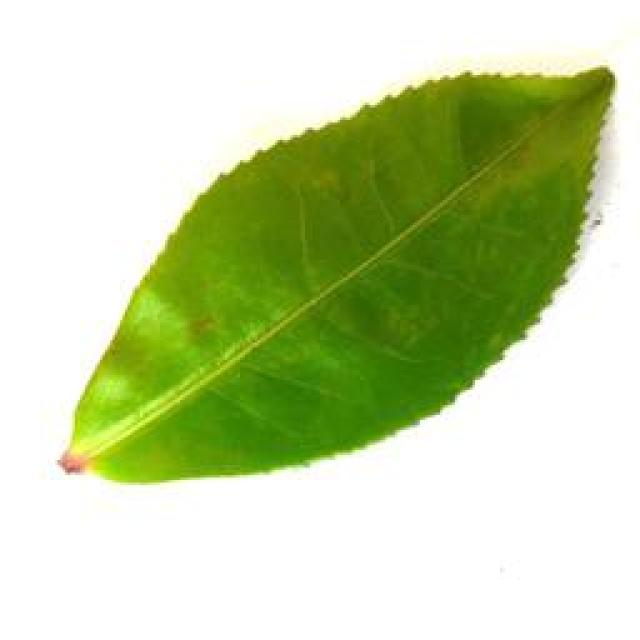Healthy: (58, 53, 619, 499)
